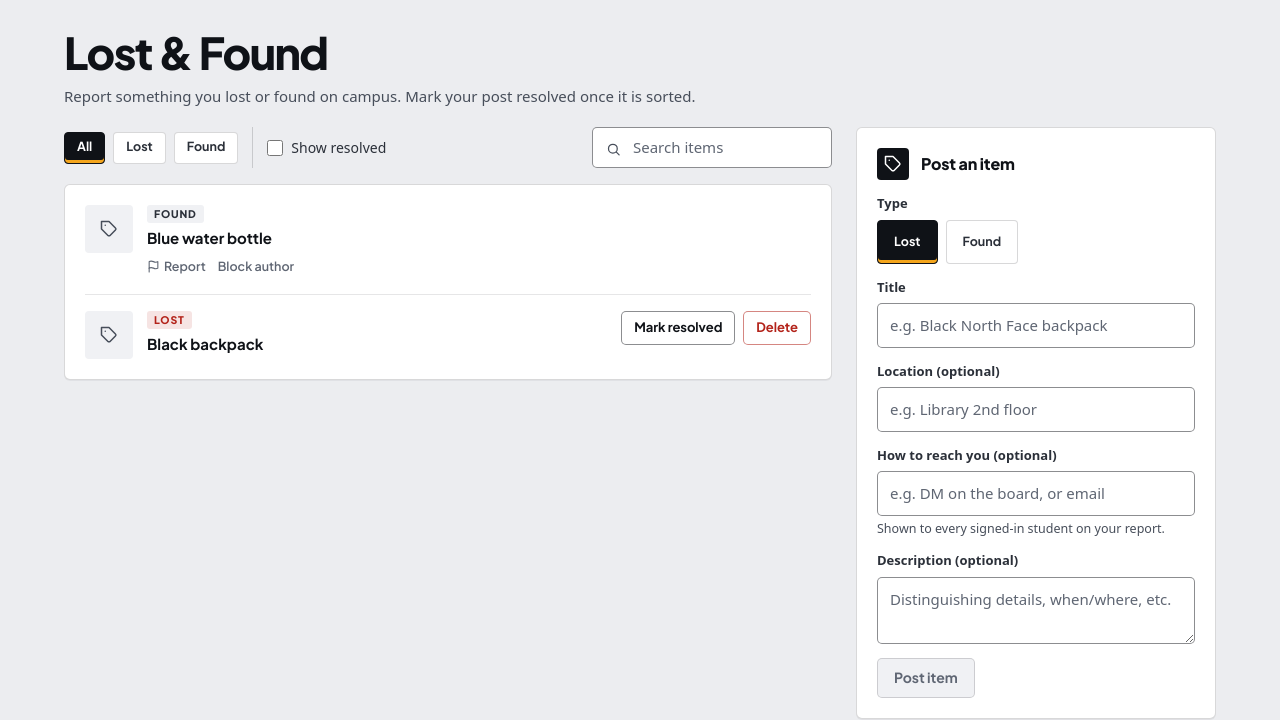
Test: Lost & Found errors › shows a failed Mark resolved in the row that failed
Check: the text "Black backpack" is shown, box [147, 335, 263, 353]
Click the button "Mark resolved" at (678, 328), box [621, 311, 735, 345]
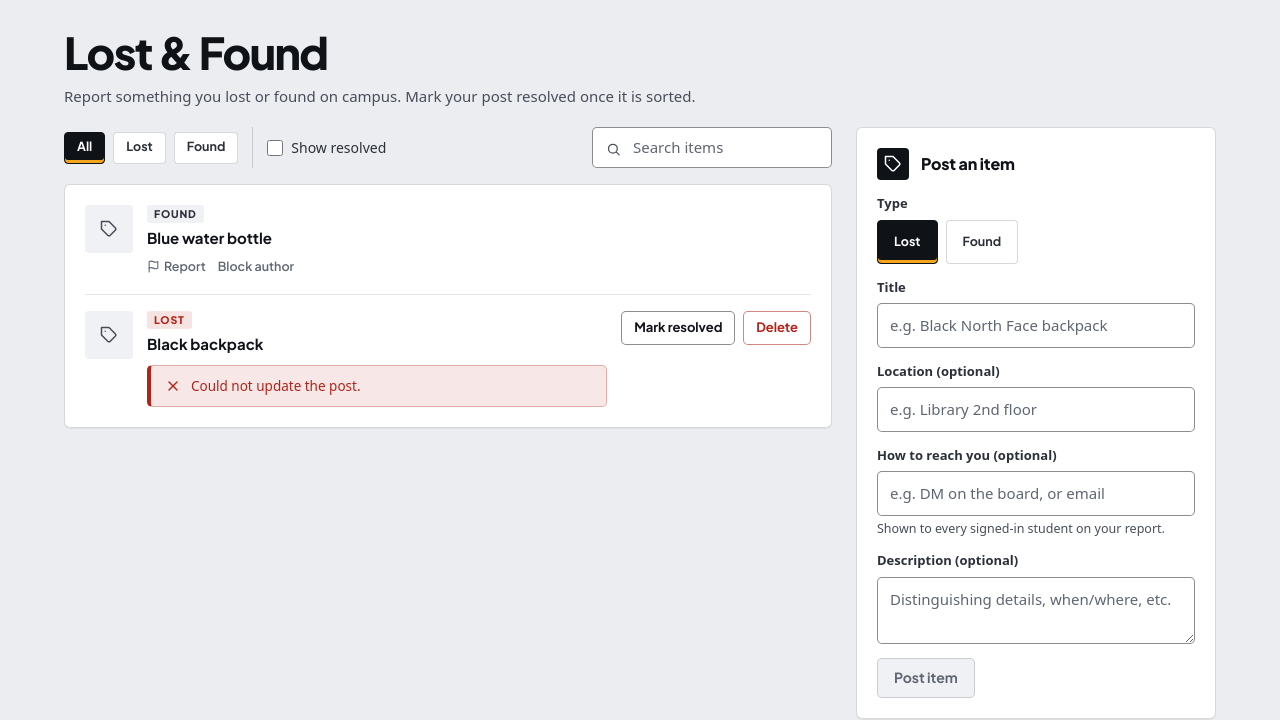
Check: the message reads "Could not update the post.", box [191, 377, 360, 395]
